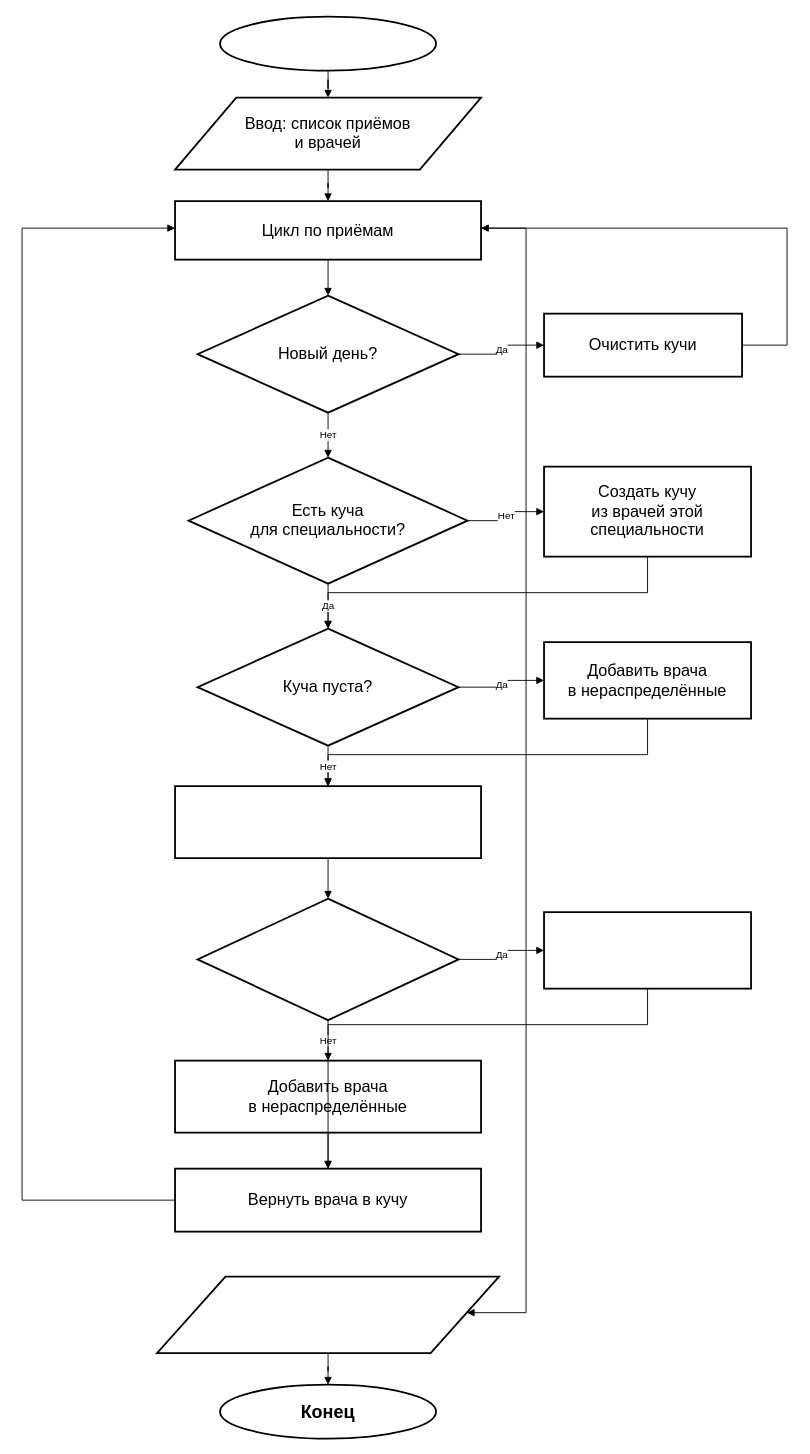
Some shapes in this 810 by 1454 pixel diagram are drawn without their labels. Each missing label, with the centre of its shape:
Вывод: распределённых и нераспределённых: the point at 328,1314
Длительность ≤ остаток?: the point at 327,959
Извлечь врача с наибольшим остатком: the point at 328,822
Назначить врача Уменьшить остаток: the point at 647,950
Начало: the point at 327,43
